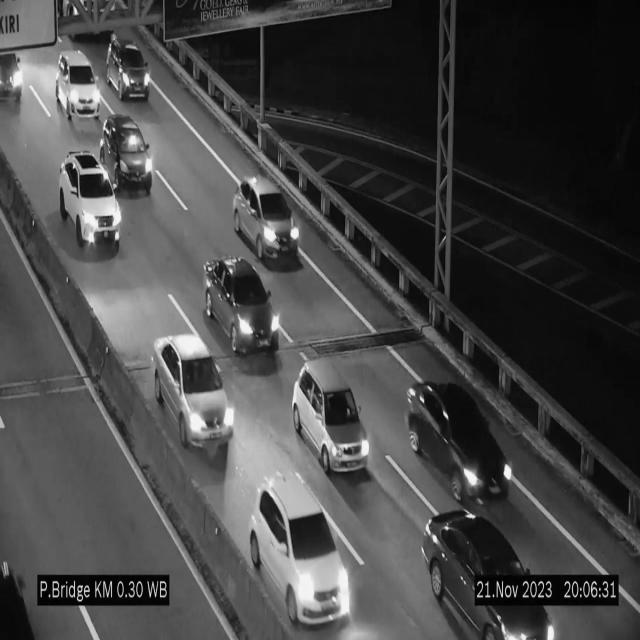Car: (414, 490, 570, 640), (252, 466, 351, 634), (407, 380, 512, 499), (153, 336, 233, 448), (292, 360, 370, 474), (203, 255, 280, 356), (57, 153, 123, 254), (234, 175, 300, 264), (99, 110, 161, 198), (106, 28, 160, 105), (57, 51, 101, 125), (0, 48, 30, 119)
